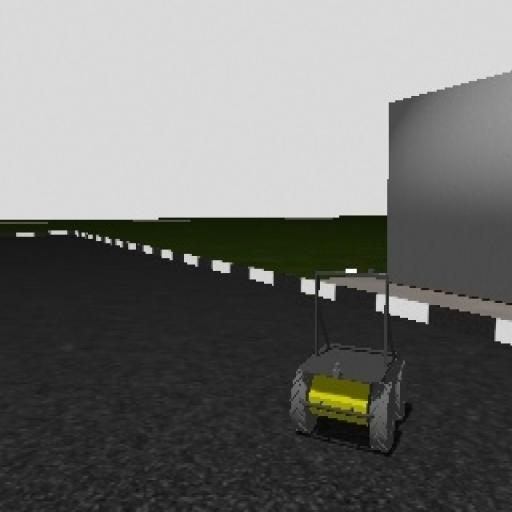huskya200: (282, 270, 407, 456)
